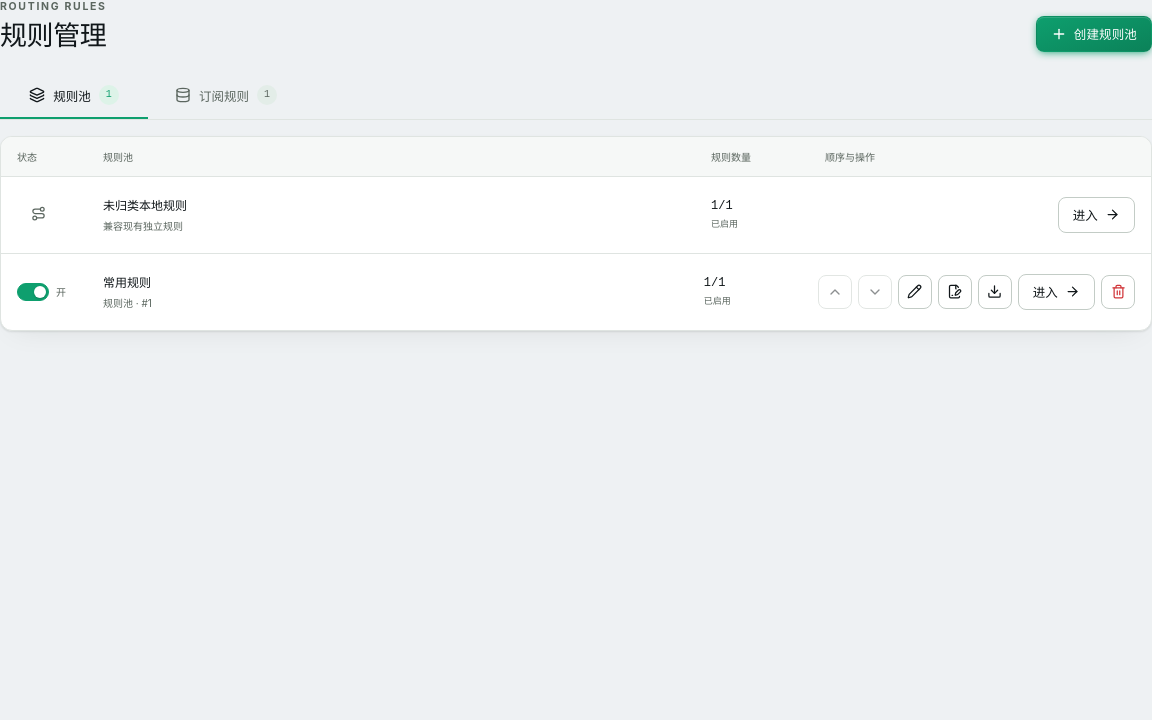
Test: RulesView › creates a multi-field manual rule and disables unsupported subscription toggles
Click the button "进入" in the row of "未归类本地规则" at (1096, 214), box [1058,196,1135,232]
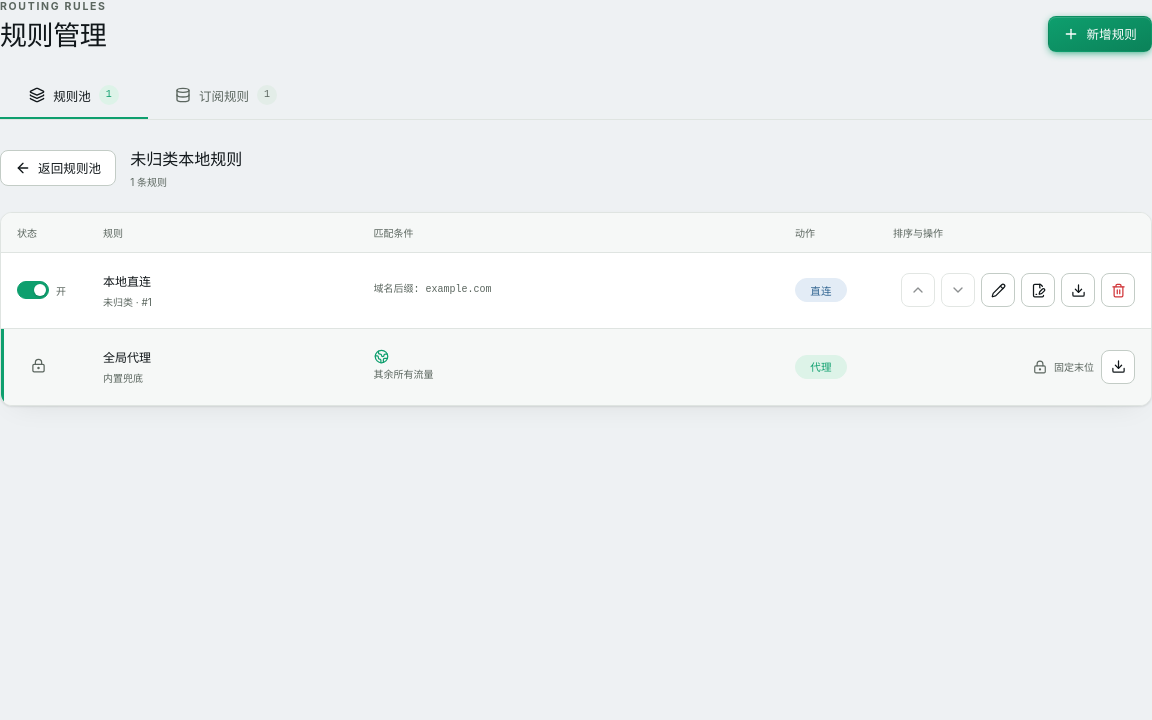
Expected: the text "全局代理" is shown, [103,350,151,365]
Click the button "新增规则" at (1100, 34), box [1048,16,1151,52]
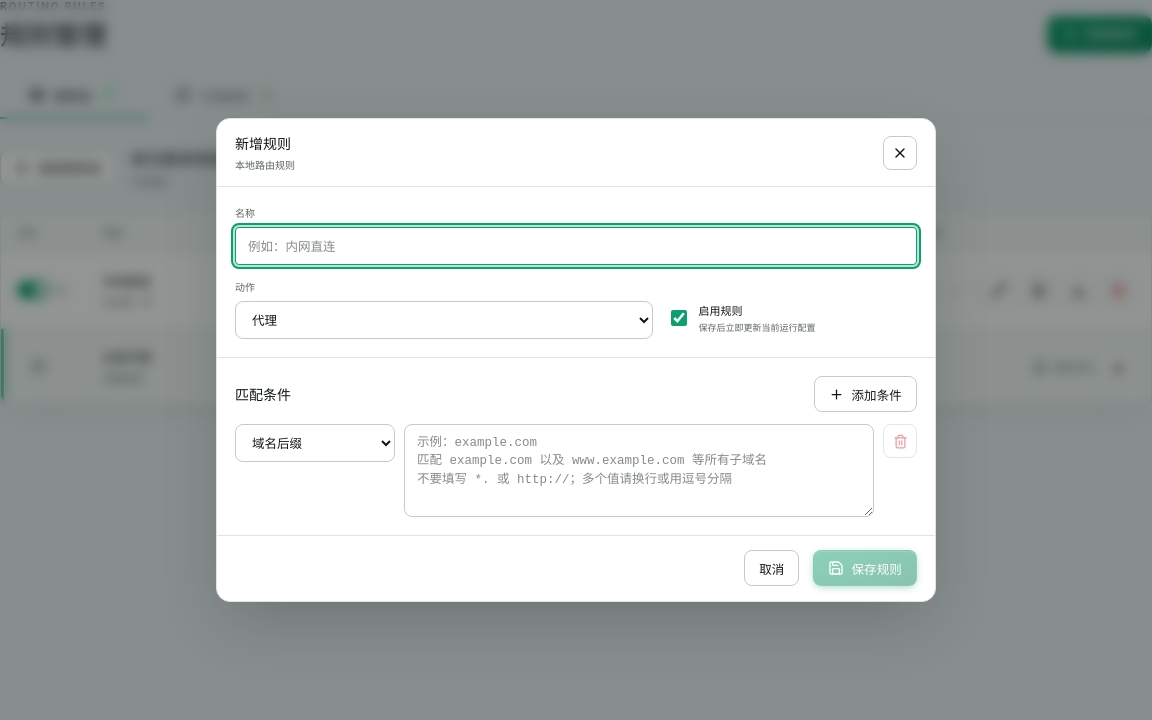
Expected: the text box with placeholder "匹配 example.com 以及 www.example.com" is shown, [404,424,874,517]
Type "内网直连" into the field labelled "名称" at (576, 246), box [235,227,917,265]
Select "私有 IP" in the dropdown named "条件 1 类型" at (315, 443), box [235,424,395,462]
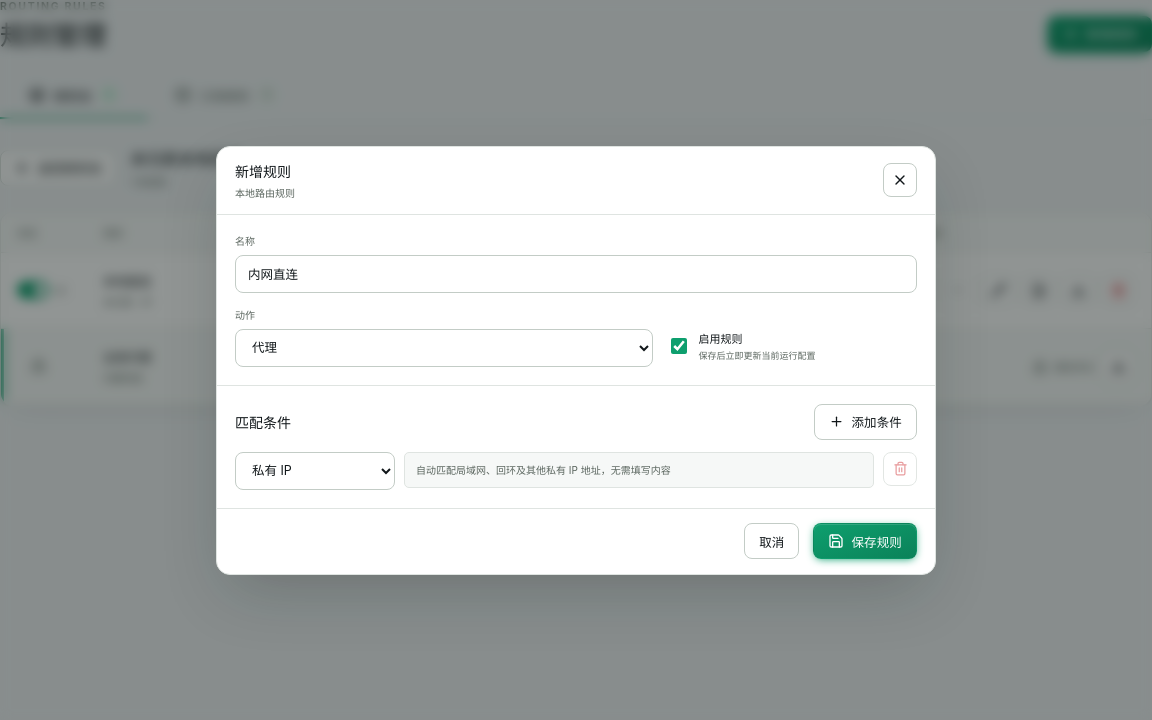
Select "直连" in the dropdown labelled "动作" at (444, 348), box [235,328,652,366]
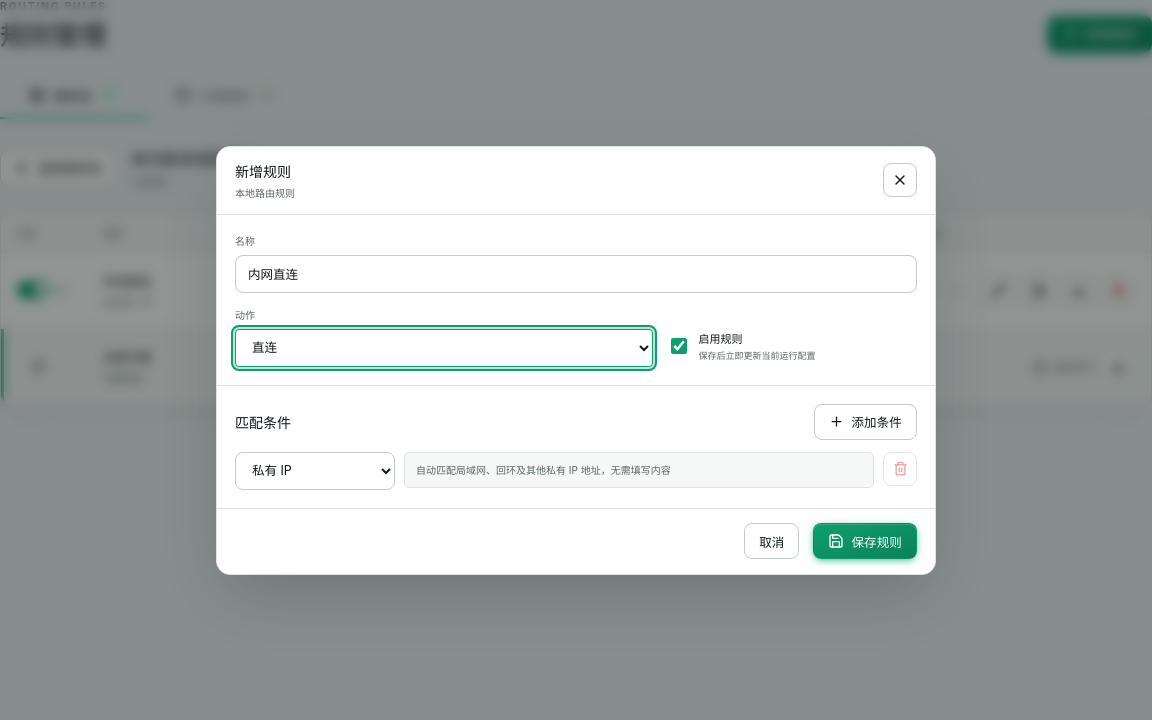
Click the button "保存规则" at (865, 541), box [814,523,917,559]
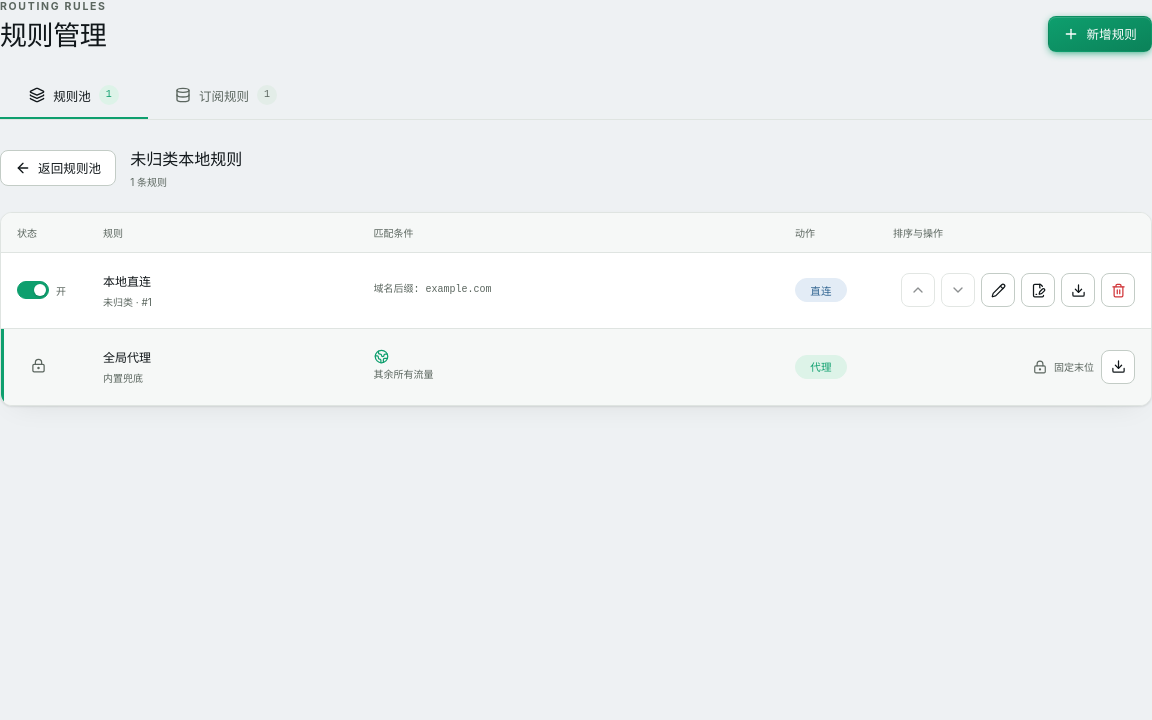
Click the tab "订阅规则 1" at (226, 96), box [152,74,300,118]
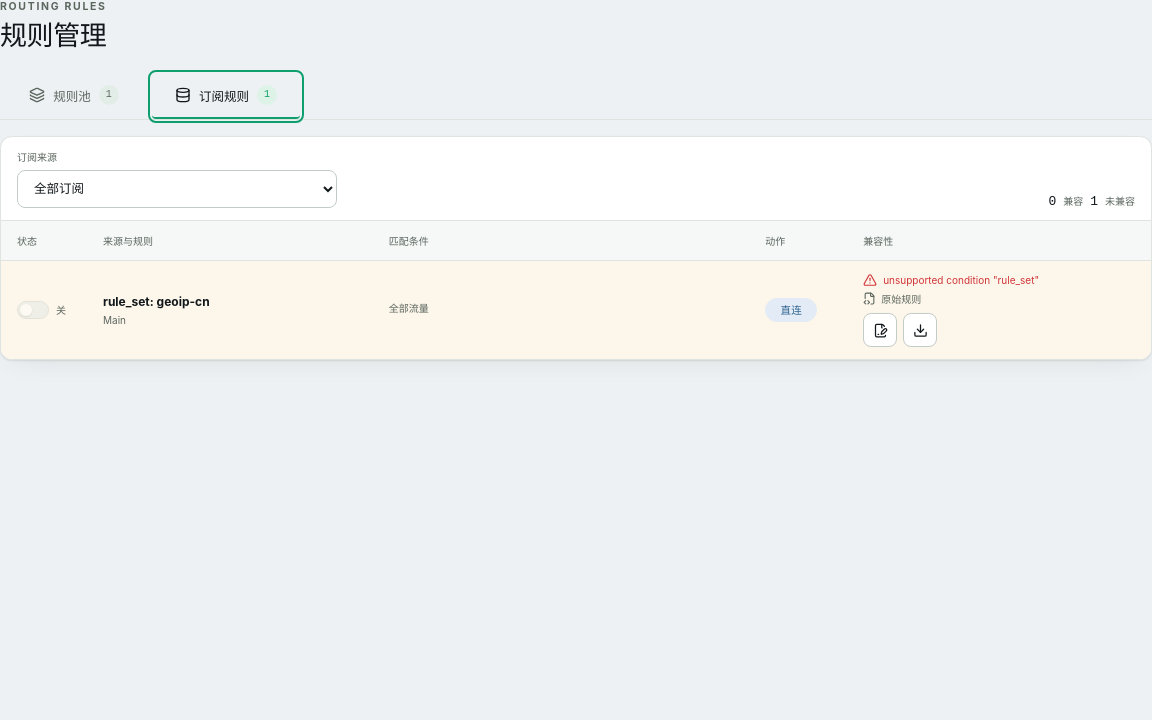
Expected: the text "unsupported condition \"rule_set\"" is shown, [883,272,1039,286]
Expected: the checkbox labelled "关" is disabled, [17,301,66,319]
